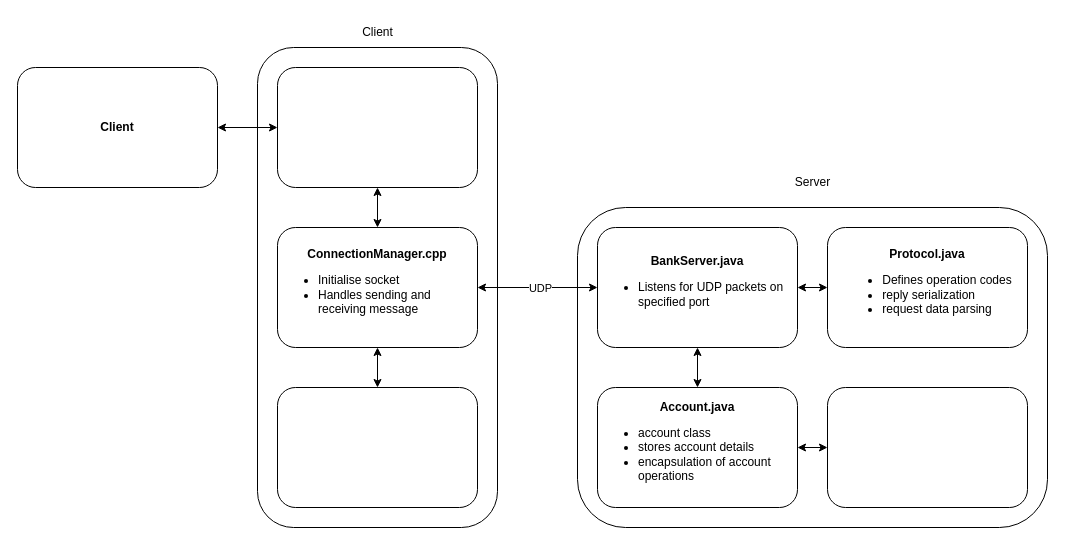
The diagram is 1065 pixels wide and 545 high, and some of its shapes have lost their labels. The shapes that lost their labels are listed below. From the top down, each one's centre as x and y in pixels, then its label:
At point (377, 127): "Client.cpp Main entry point Handles user interaction Builds request".
At point (377, 447): "Protocol.cpp Defines functions for serialization and deserialization".
At point (927, 447): "Currency.java currency type enumeration".
